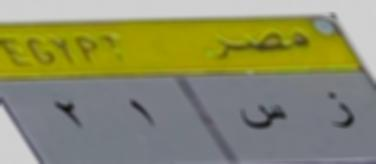1: (126, 95, 161, 134)
2: (53, 91, 89, 136)
seen: (234, 92, 297, 138)
zay: (318, 88, 360, 139)
